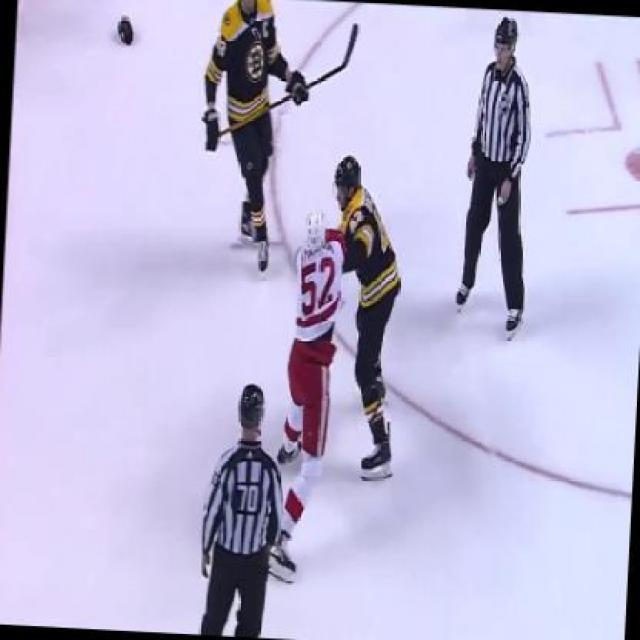fight: (277, 146, 411, 488)
non-fight: (451, 12, 542, 346)
